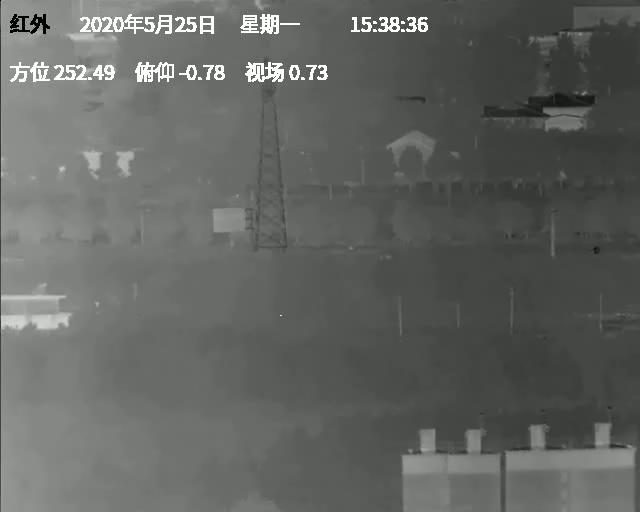uav: (347, 245, 355, 252)
